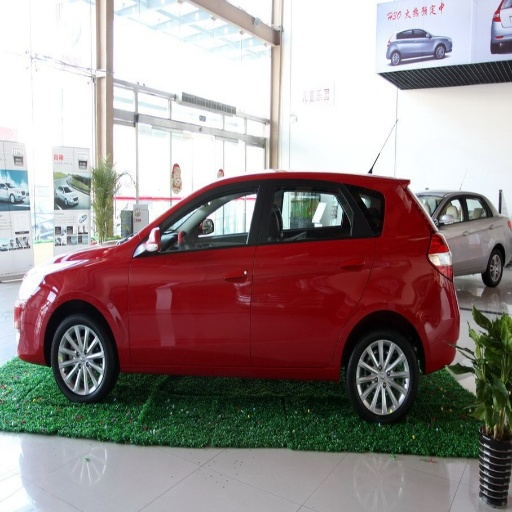back_left_door: (252, 177, 374, 368)
